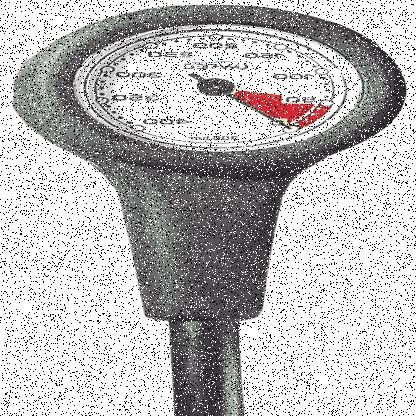needle: (223, 93, 292, 130)
